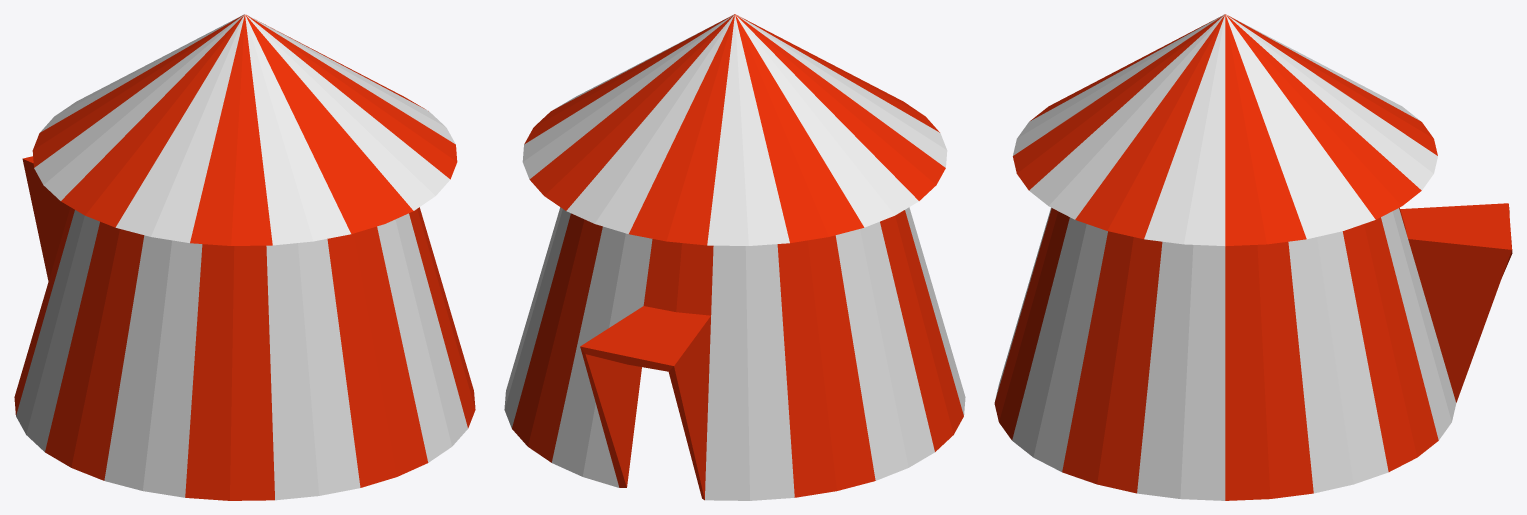
File: CarpaCirco.fbx
3 views of the same model, side by side, from view 1: azimuth 30°, elevation 25°; view 2: azimuth 150°, elevation 25°; view 3: azimuth 270°, elevation 25° (orthographic).
Visible parts, largest first — view 1: Cylinder; view 2: Cylinder; view 3: Cylinder.
Boxes of the visible parts, left/top/right/bottom form: Cylinder: left=14, top=14, right=475, bottom=500; Cylinder: left=504, top=14, right=965, bottom=500; Cylinder: left=994, top=14, right=1512, bottom=500.
Size of the model in its own units: 1400 by 1309 by 1570.
